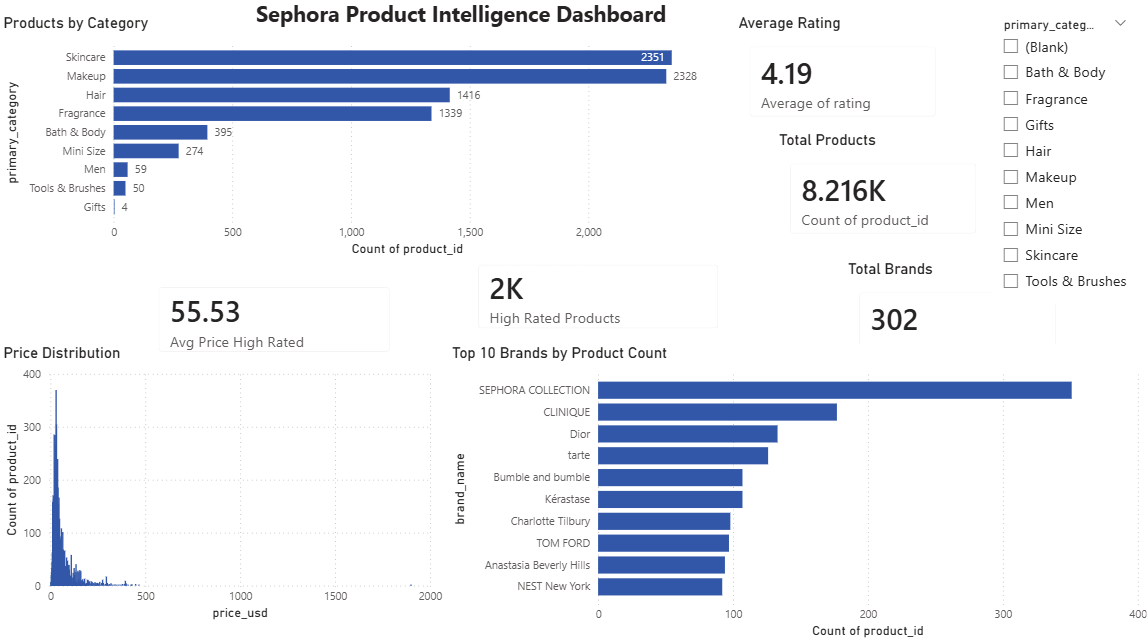

The page's visual inventory and layout, read from the dashboard file:
{"tool":"powerbi","page":{"name":"Product Overview","canvas":[1280,720],"ordinal":0},"visuals":[{"type":"clusteredBarChart","title":"Products by Category","fields":{"Category":["clean_products.primary_category"],"Y":["CountNonNull(clean_products.product_id)"]},"box":[0,21.7,800,273.3],"z":0},{"type":"cardVisual","title":"Total Products","fields":{"Data":["CountNonNull(clean_products.product_id)"]},"box":[861.7,151.7,241.7,131.7],"z":1000},{"type":"cardVisual","title":"Average Rating","fields":{"Data":["Avg(clean_products.rating)"]},"box":[816.7,21.7,241.7,131.7],"z":2000},{"type":"cardVisual","title":"Total Brands","fields":{"Data":["Count(clean_products.brand_name)"]},"box":[938.3,295,253.3,131.7],"z":3000},{"type":"clusteredBarChart","title":"Top 10 Brands by Product Count","fields":{"Category":["clean_products.brand_name"],"Y":["CountNonNull(clean_products.product_id)"]},"box":[498.3,388.3,781.7,331.7],"z":4000},{"type":"clusteredColumnChart","title":"Price Distribution","fields":{"Category":["clean_products.price_usd"],"Y":["CountNonNull(clean_products.product_id)"]},"box":[0,388.3,498.3,311.7],"z":5000},{"type":"slicer","fields":{"Values":["clean_products.primary_category"]},"box":[1103.3,20,161.7,325],"z":6000},{"type":"cardVisual","fields":{"Data":["clean_products.High Rated Products"]},"box":[515,283.3,301.7,105],"z":7000},{"type":"cardVisual","fields":{"Data":["clean_products.Avg Price High Rated"]},"box":[160,308.3,291.7,106.7],"z":8000},{"type":"textbox","box":[250,0,526.7,43.3],"z":9000}]}

Visuals, with their boxes in screenshot pixels (x1, y1, x2, y2), scaled from the page's 1280x720 canvas onto the 1148x639 screenshot:
"Products by Category" clusteredBarChart: 0, 19, 718, 262
"Total Products" cardVisual: 773, 135, 990, 252
"Average Rating" cardVisual: 732, 19, 949, 136
"Total Brands" cardVisual: 842, 262, 1069, 379
"Top 10 Brands by Product Count" clusteredBarChart: 447, 345, 1147, 638
"Price Distribution" clusteredColumnChart: 0, 345, 447, 621
slicer - clean_products.primary_category: 990, 18, 1135, 306
cardVisual - clean_products.High Rated Products: 462, 251, 732, 345
cardVisual - clean_products.Avg Price High Rated: 144, 274, 405, 368
textbox: 224, 0, 697, 38
